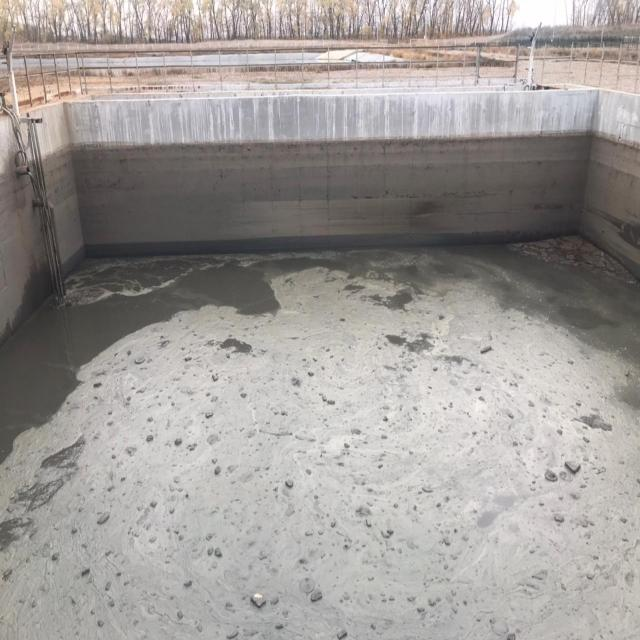fence: (13, 44, 532, 109), (534, 42, 640, 94)
liquid: (0, 234, 640, 640)
